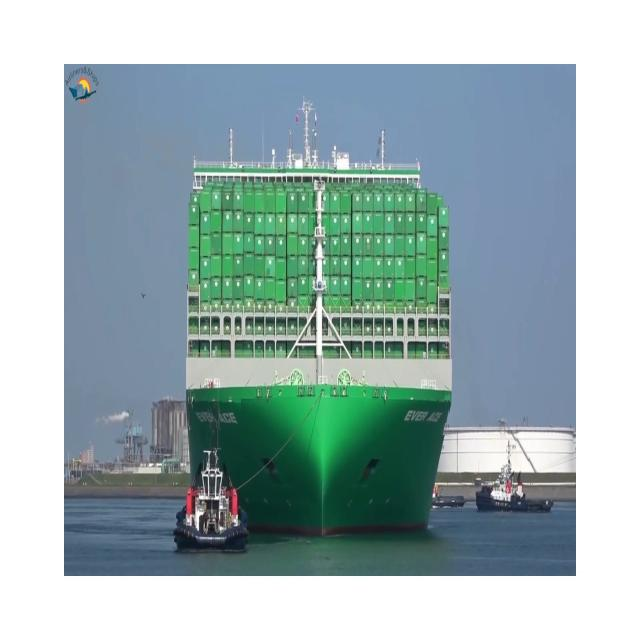OCR: (187, 392, 241, 430), (400, 404, 450, 435)
